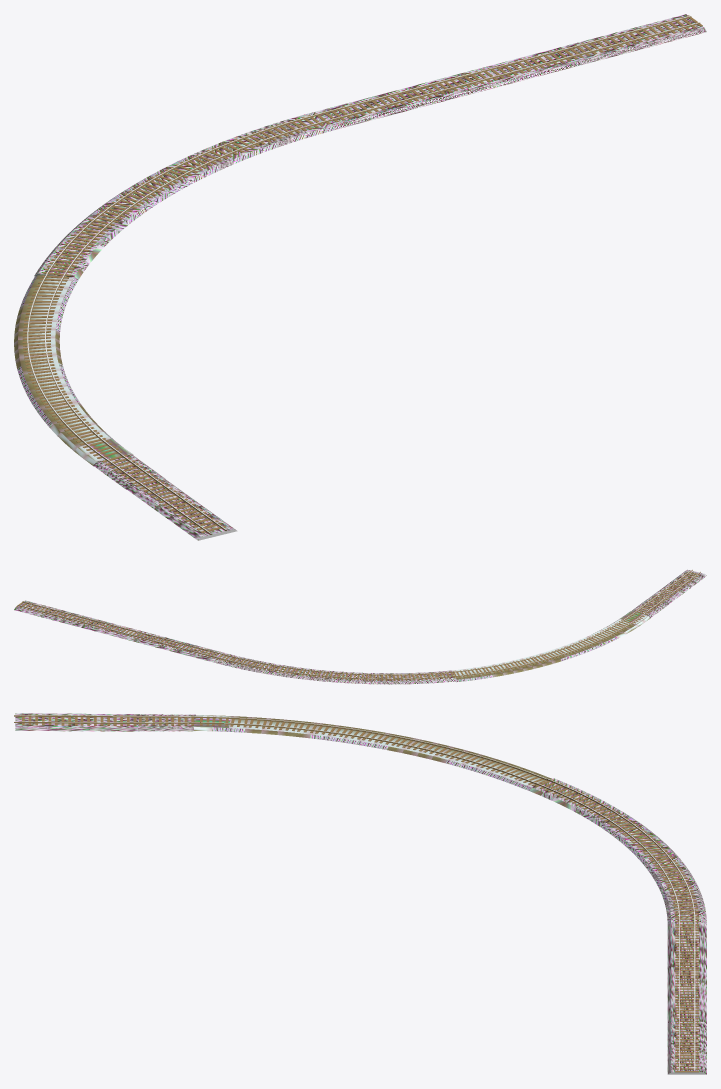
The model's file is GMLID_43172916_275975_492.gltf.
The picture shows the model from 3 angles, top to bottom: view 1: azimuth 30°, elevation 25°; view 2: azimuth 150°, elevation 25°; view 3: azimuth 270°, elevation 25°; orthographic projection. The views are drawn at different scales.
Visible parts, largest first — view 1: Z_UP; view 2: Z_UP; view 3: Z_UP.
Part boxes in pixels (x1,y1,x2,y2): Z_UP: (14,14,706,540); Z_UP: (14,569,706,684); Z_UP: (14,713,706,1074).
Size of the model in its own units: 118 by 3.02 by 92.94.
Materials: 5 (1 with a texture image).
